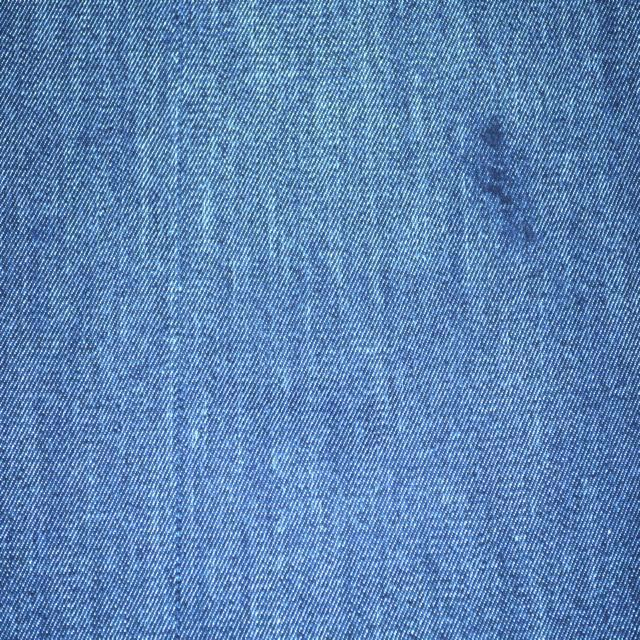stain: (451, 105, 533, 259)
